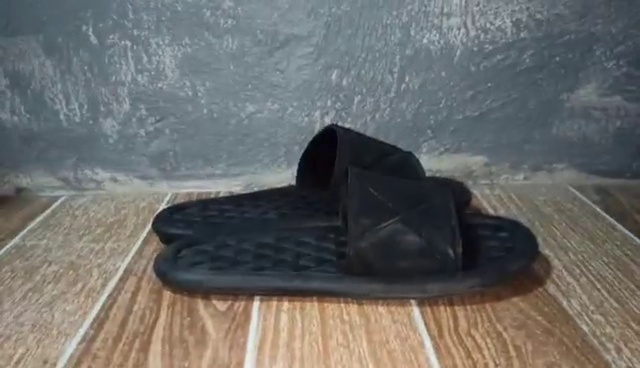slipper: (155, 163, 541, 300), (151, 125, 471, 235)
